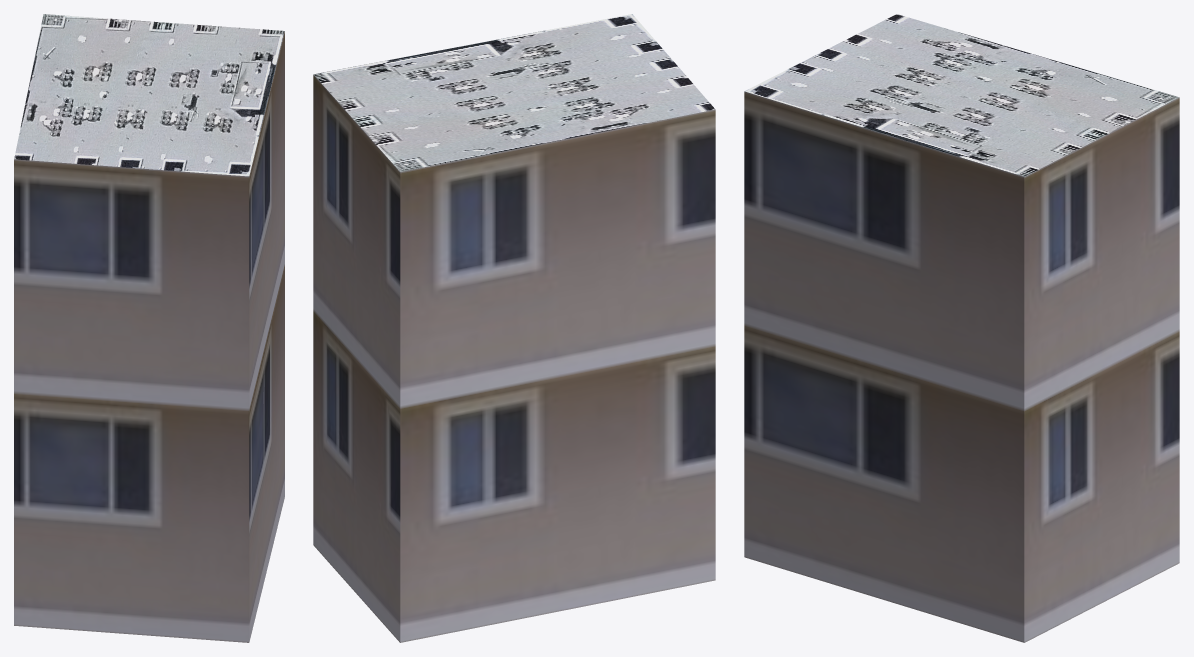
The model's file is ResTex__2975.fbx.
The picture shows the model from 3 angles, left to right: view 1: azimuth 30°, elevation 25°; view 2: azimuth 150°, elevation 25°; view 3: azimuth 270°, elevation 25°; orthographic projection.
Parts seen in each view (by area): view 1: CityEngineMaterial_21_m, CityEngineMaterial_m; view 2: CityEngineMaterial_21_m, CityEngineMaterial_m; view 3: CityEngineMaterial_21_m, CityEngineMaterial_m.
Part boxes in pixels (x1,y1,x2,y2): CityEngineMaterial_21_m: [14, 31, 284, 642]; CityEngineMaterial_m: [14, 14, 284, 176]; CityEngineMaterial_21_m: [313, 74, 715, 642]; CityEngineMaterial_m: [313, 14, 715, 171]; CityEngineMaterial_21_m: [744, 91, 1179, 642]; CityEngineMaterial_m: [744, 14, 1179, 176].
Size of the model in its own units: 4.5 by 6 by 5.08.
Materials: 2 (2 with a texture image).
